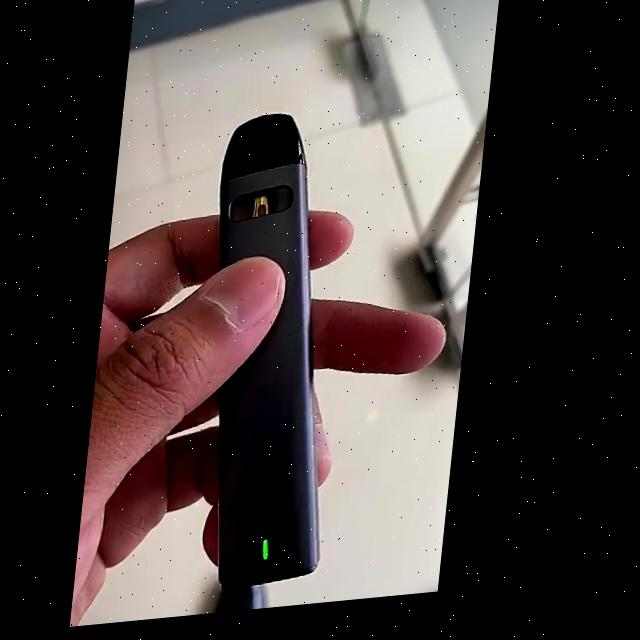vape: (189, 113, 371, 598)
